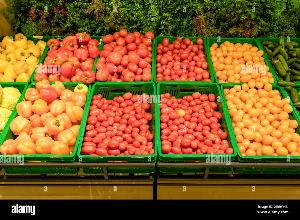bell_pepper: (0, 79, 94, 159), (0, 34, 54, 84)
cucumber: (266, 38, 300, 84)
tomato: (158, 87, 234, 157), (229, 85, 297, 154), (92, 88, 154, 156), (36, 31, 102, 79), (210, 37, 270, 85), (159, 32, 209, 80), (102, 32, 156, 76)
